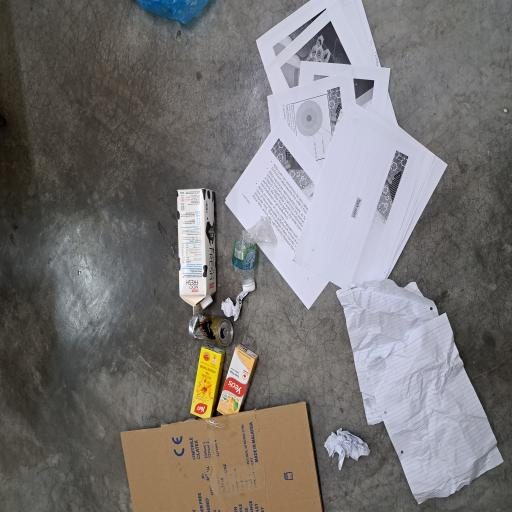can: (124, 251, 148, 311)
cardboard: (0, 160, 84, 434), (32, 430, 64, 494)
drink carton: (148, 235, 244, 288), (73, 288, 126, 344), (70, 252, 126, 300)
paper: (151, 300, 383, 512), (6, 448, 175, 512), (143, 294, 166, 330)
plastic bag: (366, 175, 384, 283)
plastic bottle: (165, 308, 222, 368)
plastic bottle cap: (153, 266, 163, 285), (165, 323, 175, 340)
pop tab: (131, 297, 138, 308)
